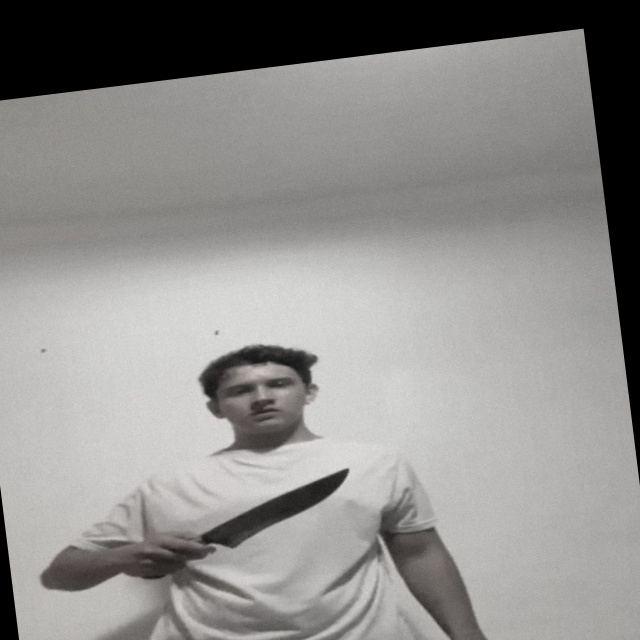Sharp-Object: (209, 465, 357, 549)
